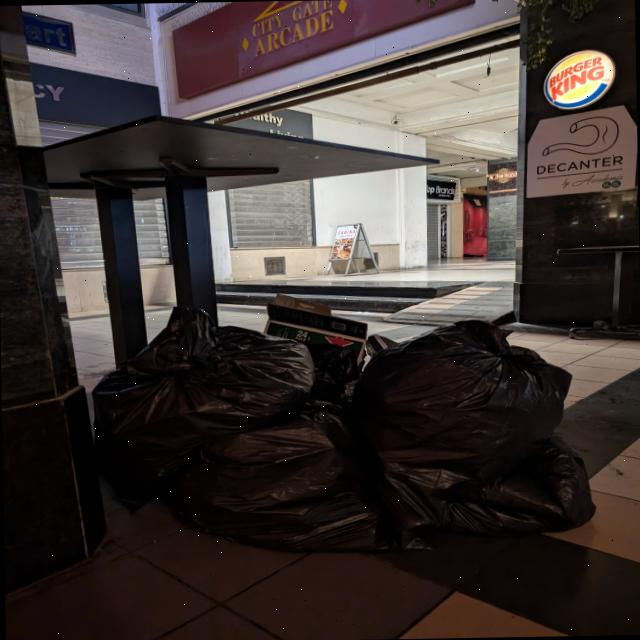Mixed Waste: (91, 297, 383, 564), (342, 316, 599, 537)
Other Waste: (262, 298, 367, 376)
